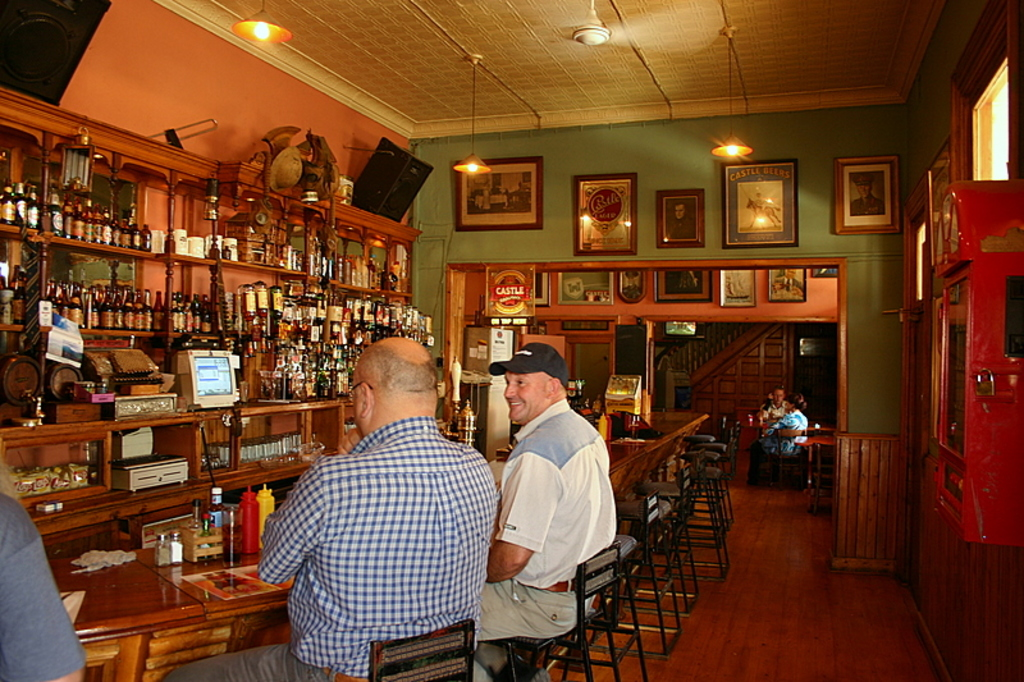Person: (161, 336, 500, 682), (480, 338, 620, 682), (0, 491, 86, 682), (749, 391, 810, 462), (758, 385, 790, 419)
